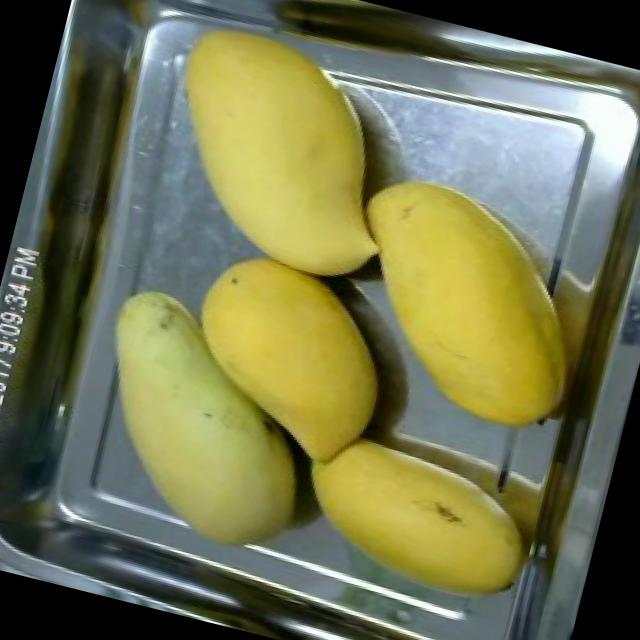fruit: (308, 152, 619, 452), (120, 0, 414, 305), (65, 270, 349, 570), (158, 236, 418, 486), (280, 418, 554, 623)
